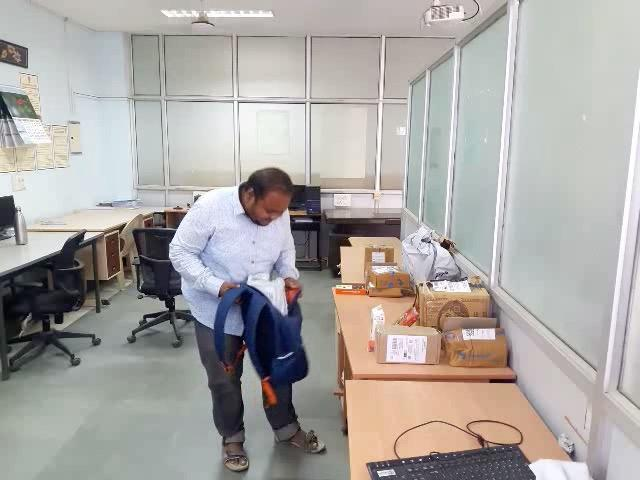shoplifting: (171, 236, 337, 453)
